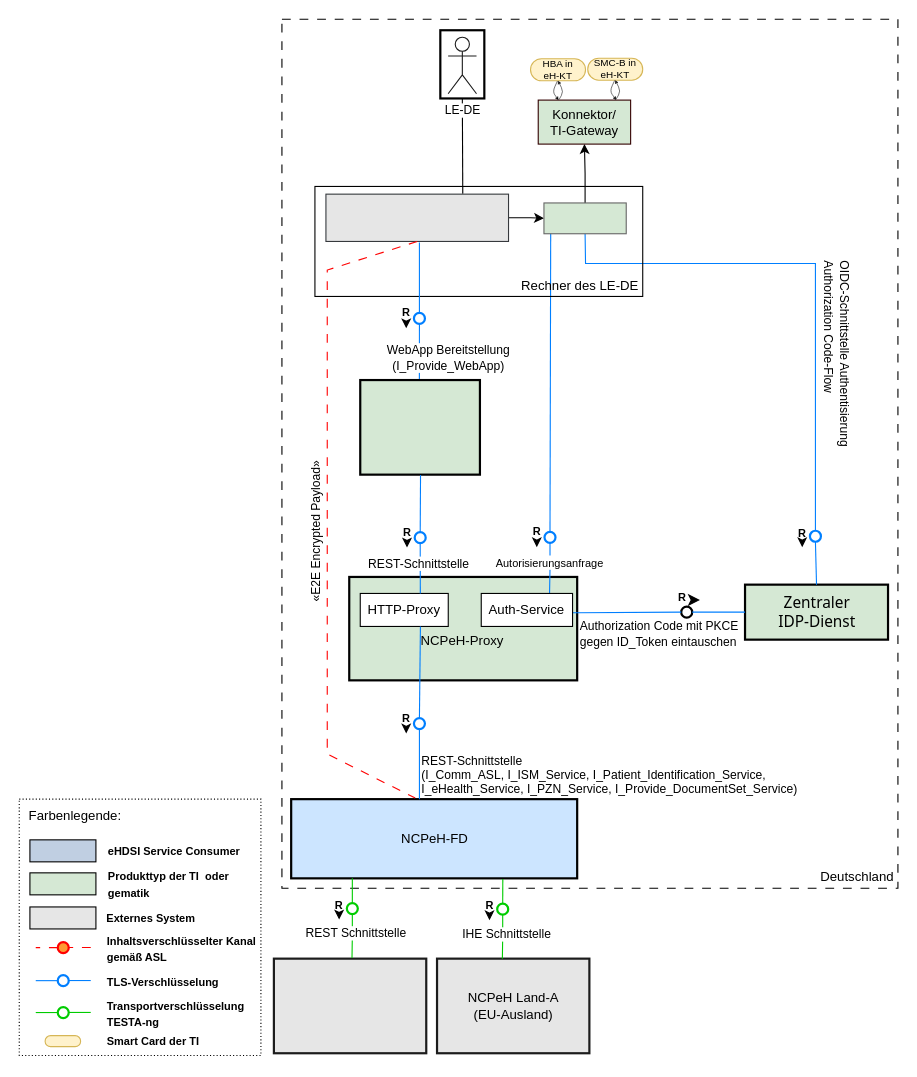
Some shapes in this 917 by 1077 pixel diagram are drawn without their labels. Here are the shapes that lost their labels. From the top down, the box of each, then its label:
(325, 193, 509, 241): Webbrowser
(543, 202, 626, 234): Authenticator
(359, 378, 480, 475): EU-Webportal <web server>
(272, 957, 427, 1054): eHDSI Dienste (Europäische Kommission)
